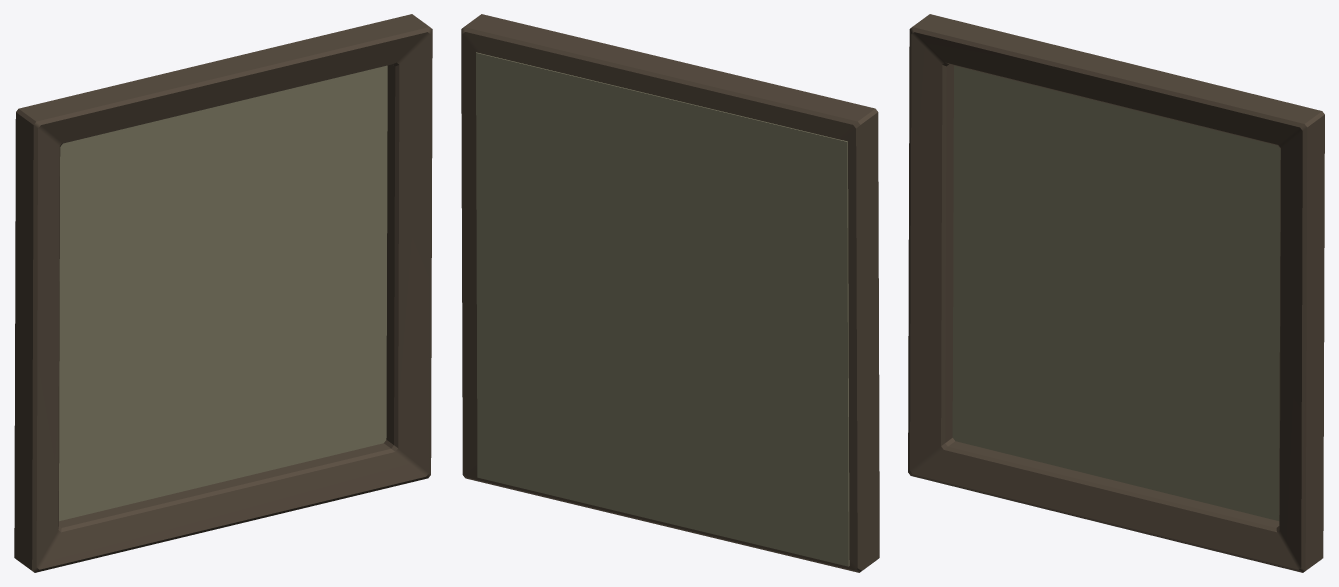
File: WM_PaintingTan.fbx
3 renders of one model, left to right at view 1: azimuth 30°, elevation 25°; view 2: azimuth 150°, elevation 25°; view 3: azimuth 330°, elevation 25°, orthographic.
Visible parts, largest first — view 1: pCube29; view 2: pCube29; view 3: pCube29.
Part boxes in pixels (x1,y1,x2,y2): pCube29: (14, 14, 432, 572); pCube29: (461, 14, 879, 572); pCube29: (908, 14, 1324, 572).
Size of the model in its own units: 10.94 by 11.81 by 1.03.
